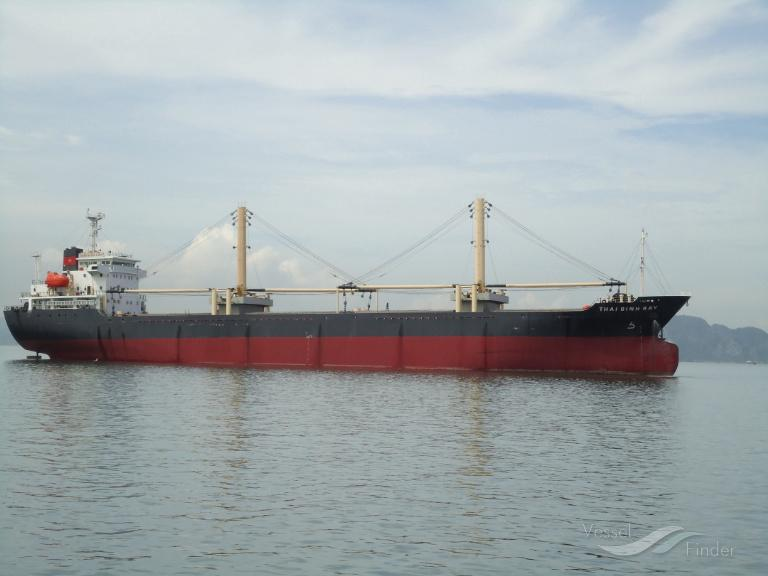OCR: (593, 301, 657, 316)
